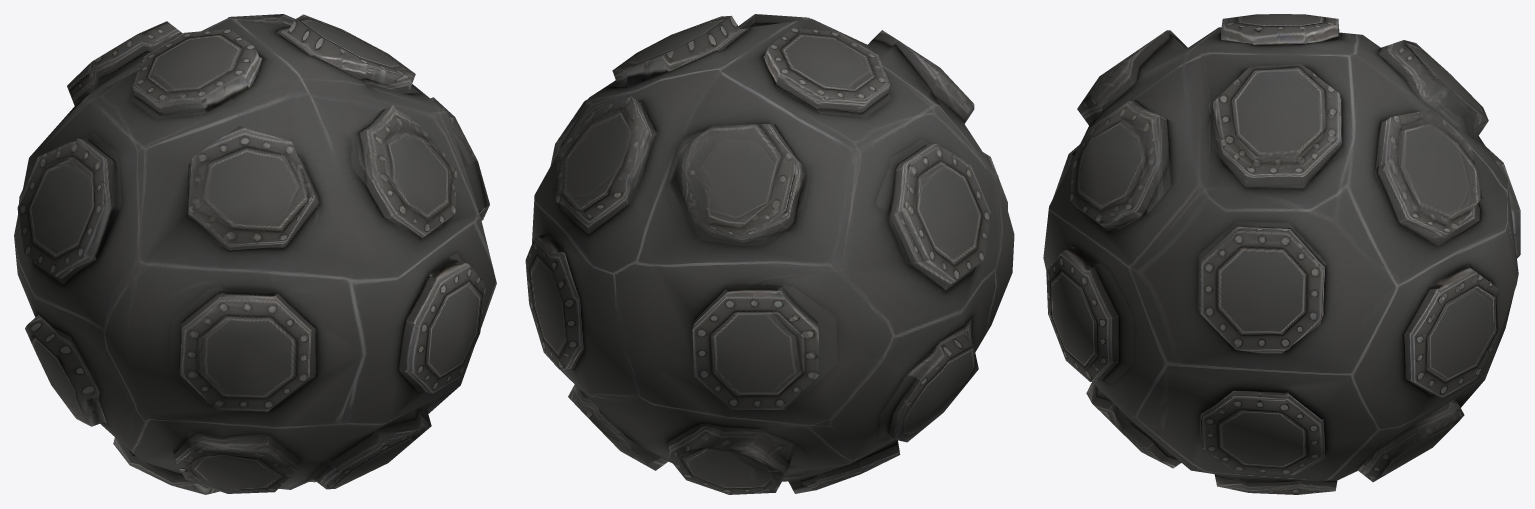
The model's file is cold-iron-v2-hub-b-polyhedron.glb.
3 renders of one model, left to right at view 1: azimuth 30°, elevation 25°; view 2: azimuth 150°, elevation 25°; view 3: azimuth 270°, elevation 25°, orthographic.
Visible parts, largest first — view 1: tripo_node_9642e57d-ce27-401a-aaa0-1e147562dcd8; view 2: tripo_node_9642e57d-ce27-401a-aaa0-1e147562dcd8; view 3: tripo_node_9642e57d-ce27-401a-aaa0-1e147562dcd8.
Part boxes in pixels (x1=…): tripo_node_9642e57d-ce27-401a-aaa0-1e147562dcd8: x1=14, y1=14, x2=496, y2=494; tripo_node_9642e57d-ce27-401a-aaa0-1e147562dcd8: x1=525, y1=14, x2=1014, y2=494; tripo_node_9642e57d-ce27-401a-aaa0-1e147562dcd8: x1=1043, y1=14, x2=1520, y2=494.
Size of the model in its own units: 0.9902 by 0.998 by 0.998.
1 material, 1 textured.
